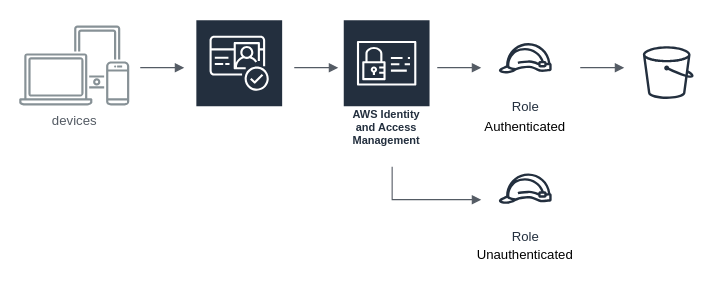
This 721x285 diagram has some shape labels left out. Each missing label, with the centre of its shape:
"Amazon Cognito" goes at [238,79].
"Bucket" goes at [667,72].
